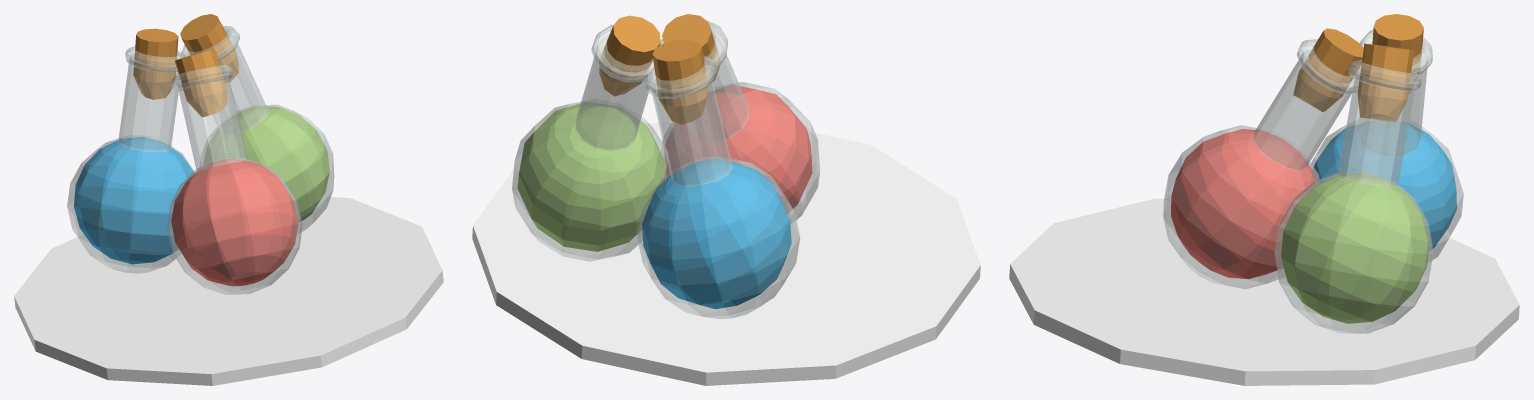
The model's file is potions.obj.
3 views of the same model, side by side, from view 1: azimuth 30°, elevation 25°; view 2: azimuth 150°, elevation 25°; view 3: azimuth 270°, elevation 25° (orthographic). The views are drawn at different scales.
Visible parts, largest first — view 1: group1102220970, group1311945982, group841157256, group1733504641; view 2: group1102220970, group841157256, group1733504641, group1311945982; view 3: group1102220970, group1733504641, group1311945982, group841157256.
Boxes of the visible parts, box(x1,y1,x2,y2) form: group1102220970: box(14, 197, 443, 385); group1311945982: box(167, 48, 302, 294); group841157256: box(67, 28, 194, 273); group1733504641: box(180, 14, 334, 234); group1102220970: box(472, 122, 980, 385); group841157256: box(637, 39, 800, 318); group1733504641: box(512, 15, 669, 261); group1311945982: box(660, 14, 819, 223); group1102220970: box(1009, 198, 1519, 385); group1733504641: box(1274, 43, 1433, 333); group1311945982: box(1163, 28, 1363, 289); group841157256: box(1310, 14, 1463, 262).
Size of the model in its own units: 0.3286 by 0.2121 by 0.3291.
